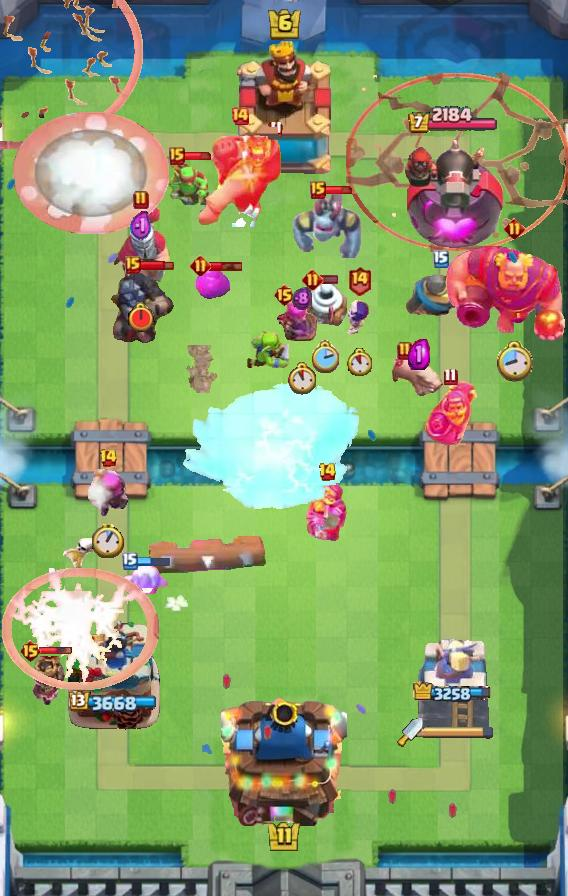bar: (416, 637, 490, 731)
barbarian-evolution: (0, 568, 160, 690)
bomber-evolution: (29, 656, 67, 708)
electro-spirit: (130, 210, 152, 242), (408, 338, 430, 369), (292, 285, 312, 310)
elixir: (496, 341, 533, 383), (92, 523, 124, 558), (286, 362, 318, 394), (310, 339, 339, 372), (127, 303, 155, 334), (348, 348, 373, 376)
elixir-golem-small: (291, 190, 365, 258)
emote: (138, 259, 174, 271), (208, 260, 244, 272), (137, 555, 172, 567), (39, 646, 73, 656), (182, 151, 214, 161), (323, 185, 355, 195), (320, 274, 340, 286)
evolution-symbol: (276, 294, 328, 350)
firecracker: (405, 265, 477, 320)
firecracker-evolution: (423, 379, 476, 444), (304, 480, 350, 542)
fisherman: (183, 345, 221, 393)
giant: (390, 350, 448, 400)
giant-snowball: (165, 161, 209, 205)
goblin: (346, 299, 372, 335)
goblin-drill: (301, 278, 347, 334)
guard: (346, 73, 568, 252)
heal-spirit: (61, 533, 111, 571)
inferno-dragon: (108, 266, 176, 354)
king-tower: (221, 690, 347, 826), (228, 41, 340, 181)
king-tower-bar: (423, 725, 495, 739)
lava-hound: (196, 117, 284, 227)
lightning: (445, 244, 567, 344)
mega-knight: (180, 380, 364, 516)
miner: (195, 271, 231, 301)
minion: (145, 536, 269, 576)
mirror: (120, 562, 170, 600)
queen-tower: (65, 617, 163, 731)
selected: (407, 106, 499, 135), (69, 690, 159, 714), (413, 681, 493, 705)
skeleton-barrel: (1, 0, 144, 150)
text: (348, 265, 373, 295), (272, 283, 296, 307), (19, 639, 42, 663), (190, 255, 211, 277), (302, 269, 323, 291), (504, 217, 525, 238), (230, 106, 250, 126), (99, 448, 118, 468), (319, 462, 338, 482), (133, 190, 149, 210), (397, 341, 413, 361), (169, 147, 185, 165), (310, 181, 326, 199), (433, 250, 449, 268), (125, 256, 141, 274), (122, 552, 138, 570), (442, 367, 457, 385)
tombstone: (88, 466, 129, 520)
tower-bar: (401, 132, 508, 256)
wall-breaker: (14, 112, 170, 234)
wall-breaker-evolution: (111, 204, 171, 284)
zap: (245, 326, 293, 371)
